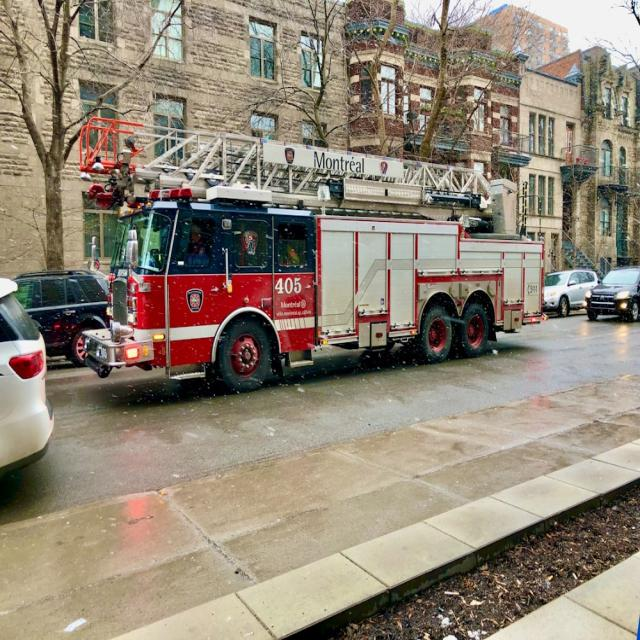car: (16, 270, 109, 365), (585, 267, 640, 320)
emergency: (80, 117, 550, 388)
